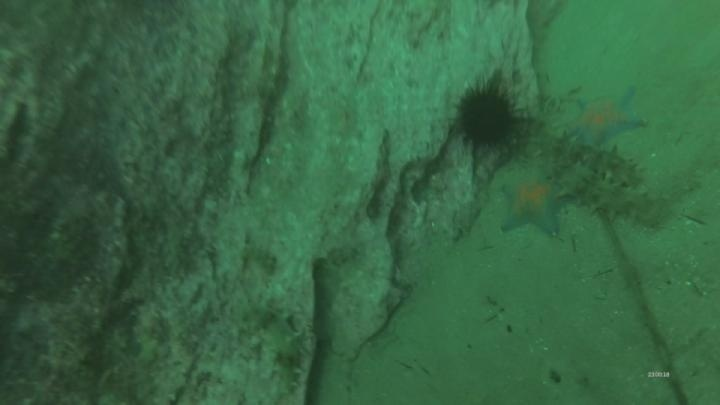echinus: (452, 80, 524, 153)
holothurian: (236, 299, 307, 402), (556, 167, 668, 228), (562, 141, 648, 191)
starfish: (566, 86, 648, 151), (495, 170, 568, 238)
